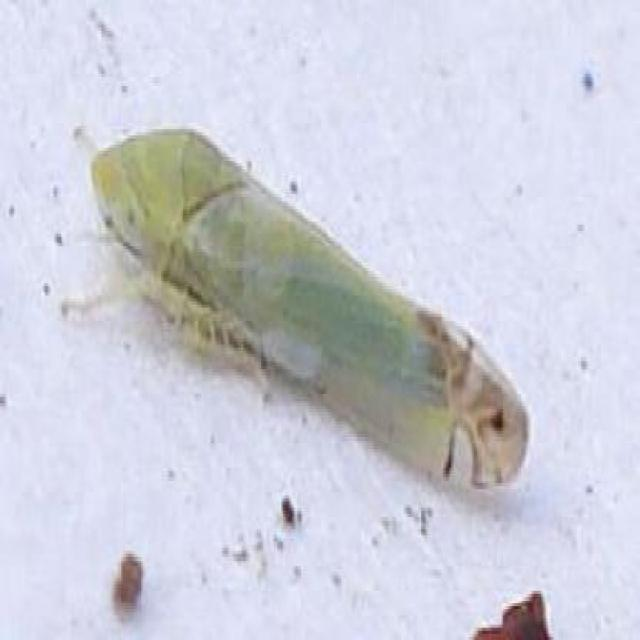green-leafhopper: (64, 124, 530, 488)
